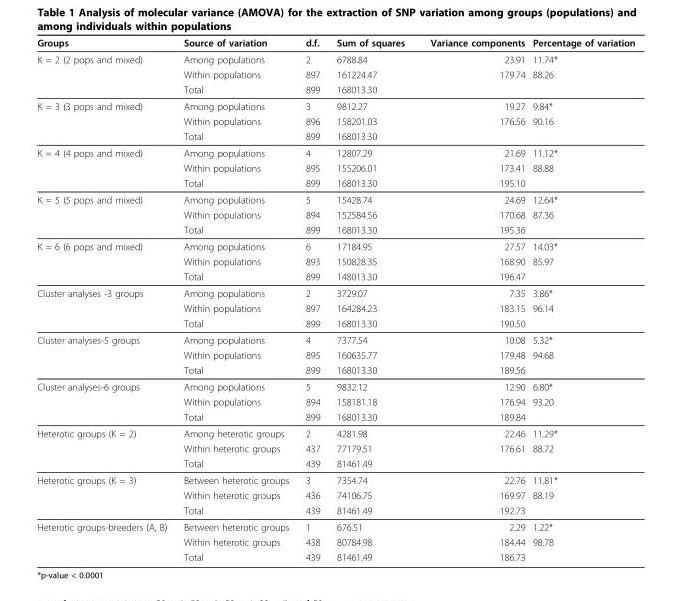table: (36, 36, 634, 562)
table column: (36, 36, 174, 562), (174, 36, 296, 562), (417, 36, 528, 562), (528, 36, 634, 562), (327, 36, 417, 562), (296, 36, 327, 562)
table column header: (36, 36, 634, 50)
table row: (36, 50, 634, 66), (36, 81, 634, 97), (36, 97, 634, 113), (36, 128, 634, 144), (36, 144, 634, 160), (36, 175, 634, 191), (36, 221, 634, 237), (36, 237, 634, 253), (36, 268, 634, 284), (36, 284, 634, 300), (36, 315, 634, 331), (36, 331, 634, 347), (36, 362, 634, 378), (36, 393, 634, 409), (36, 424, 634, 440), (36, 455, 634, 471), (36, 471, 634, 487), (36, 502, 634, 518), (36, 518, 634, 534), (36, 66, 634, 81), (36, 113, 634, 128), (36, 160, 634, 175), (36, 191, 634, 206), (36, 206, 634, 221), (36, 253, 634, 268), (36, 300, 634, 315), (36, 347, 634, 362), (36, 378, 634, 393), (36, 409, 634, 424), (36, 440, 634, 455), (36, 487, 634, 502), (36, 534, 634, 549), (36, 36, 634, 50), (36, 549, 634, 562)
table spanning cell: (36, 50, 174, 97), (36, 97, 174, 144), (36, 144, 174, 191), (36, 237, 174, 284), (36, 284, 174, 331), (36, 331, 174, 378), (36, 424, 174, 471), (36, 471, 174, 518), (36, 191, 174, 237), (36, 378, 174, 424), (36, 518, 174, 562)
